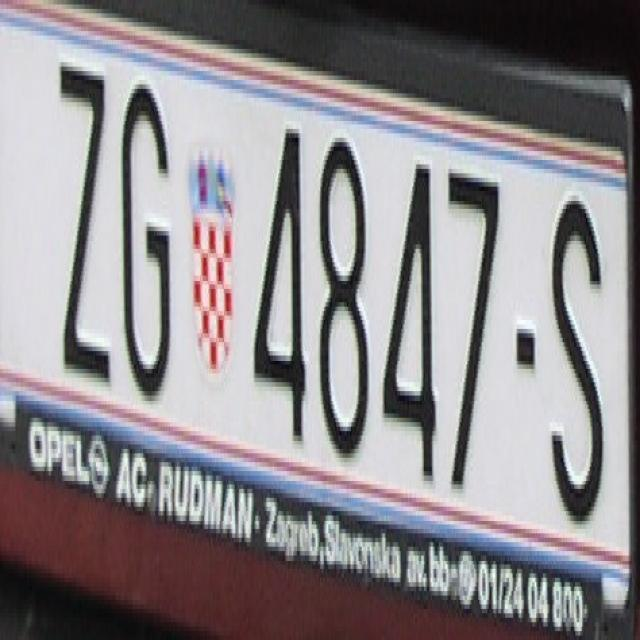4: (378, 129, 438, 489), (250, 107, 306, 449)
7: (443, 156, 501, 502)
8: (313, 111, 369, 462)
G: (115, 71, 171, 405)
S: (542, 182, 604, 529)
Z: (52, 54, 110, 382)
